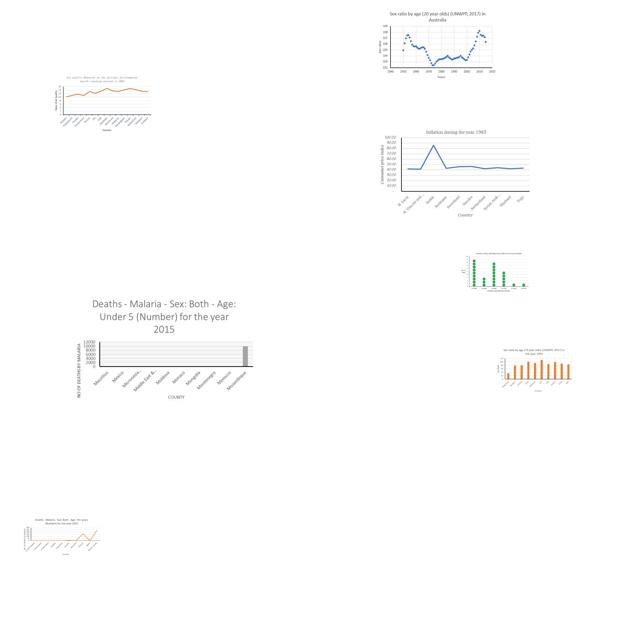Graph: (71, 294, 257, 404), (379, 129, 532, 218), (375, 8, 498, 81), (53, 74, 153, 134), (495, 347, 573, 393), (22, 517, 102, 557), (460, 251, 530, 294)
